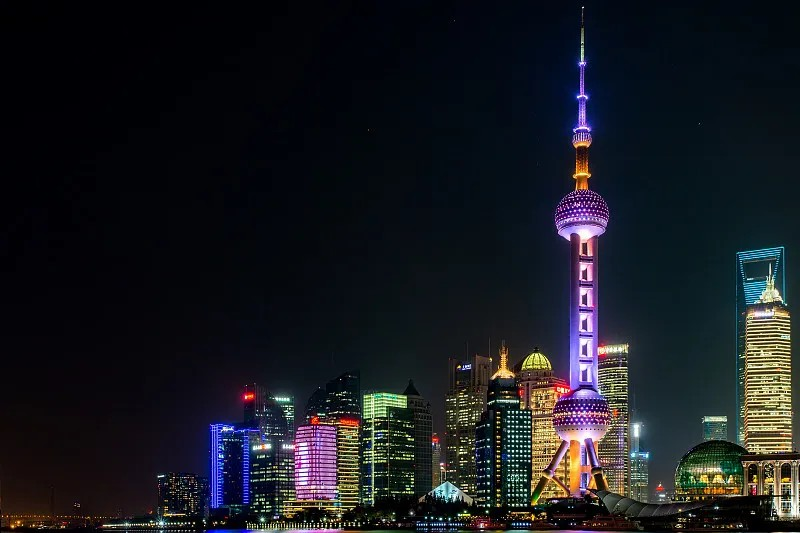Oriental: (532, 7, 611, 501)
